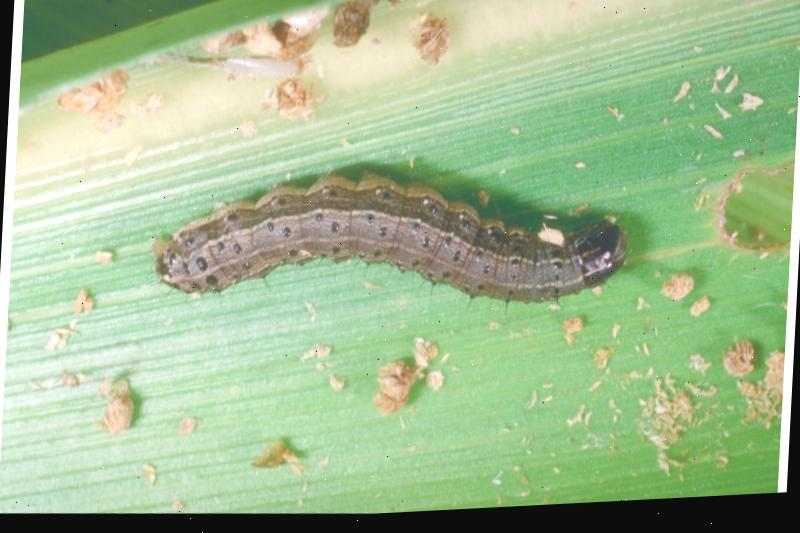fall-armyworm: (152, 173, 628, 308)
